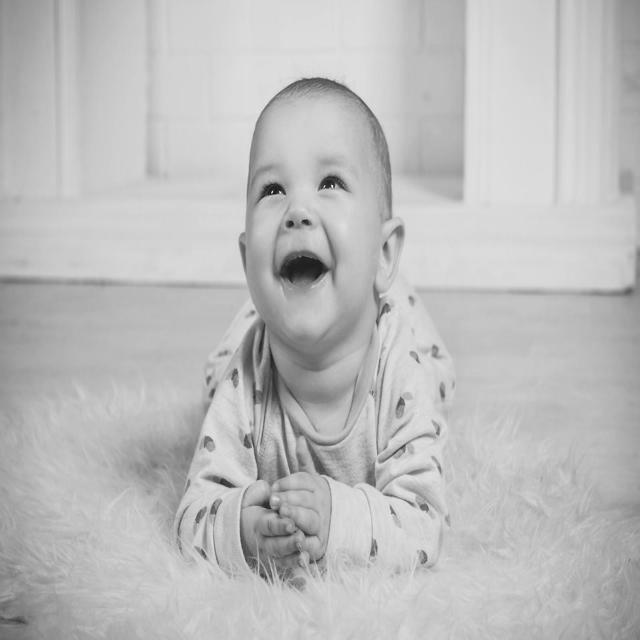Happiness: (245, 96, 382, 352)
